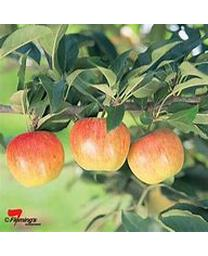apple: (70, 117, 131, 172), (4, 131, 64, 186), (126, 129, 184, 184)
